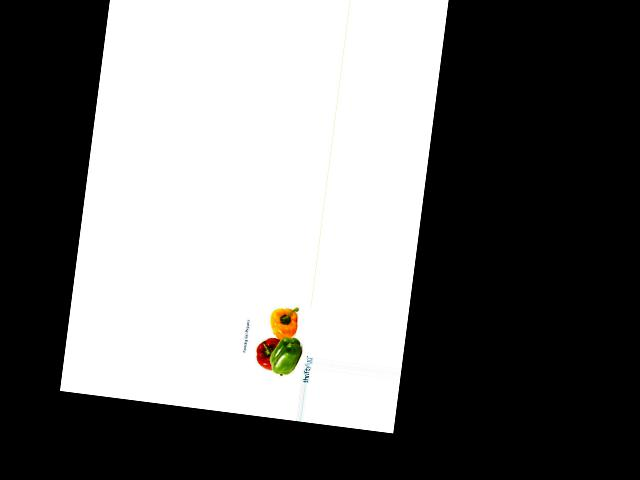bell_pepper: (268, 332, 307, 379)
